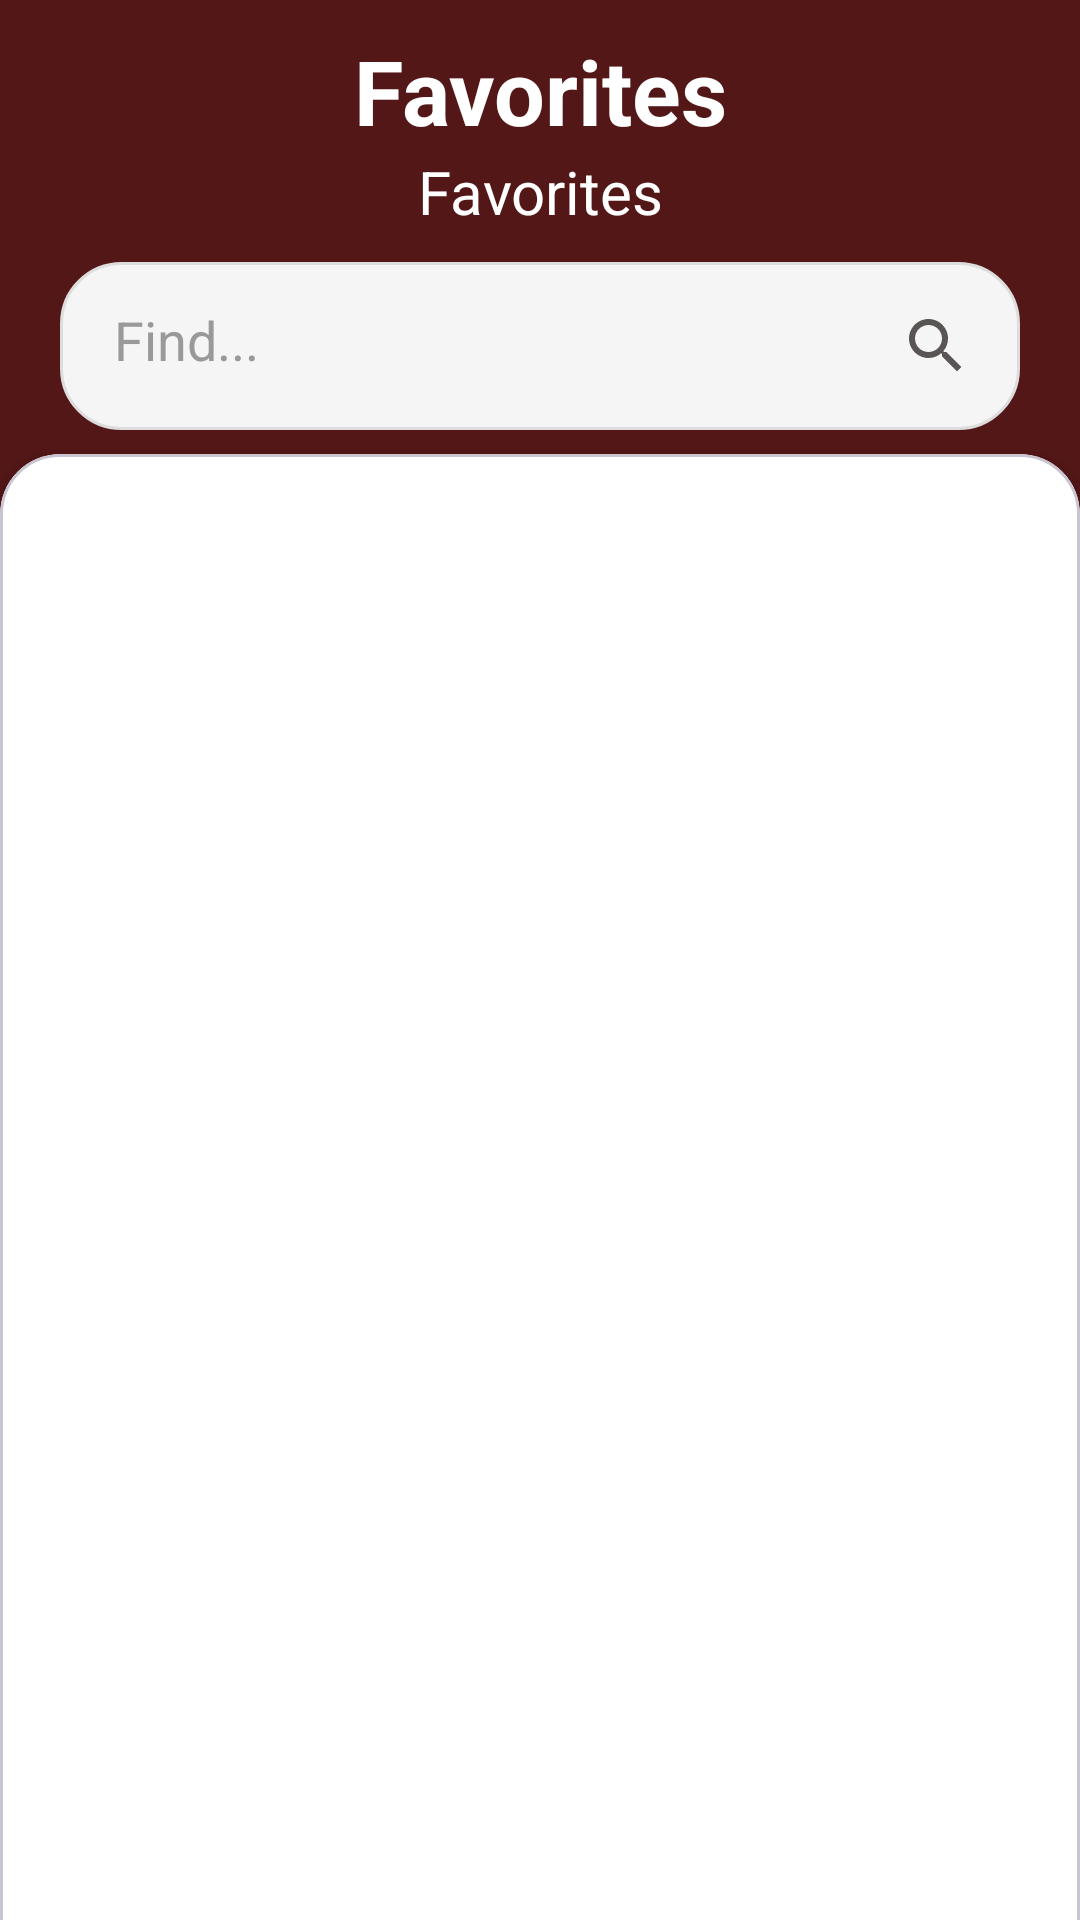

Where to tap for icons on this 1080x1920 app screen, as (x,y):
Search Icon: (935,345)
